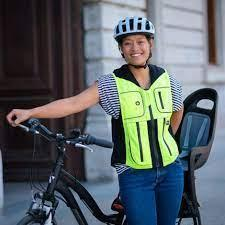Vest: (112, 64, 181, 167)
